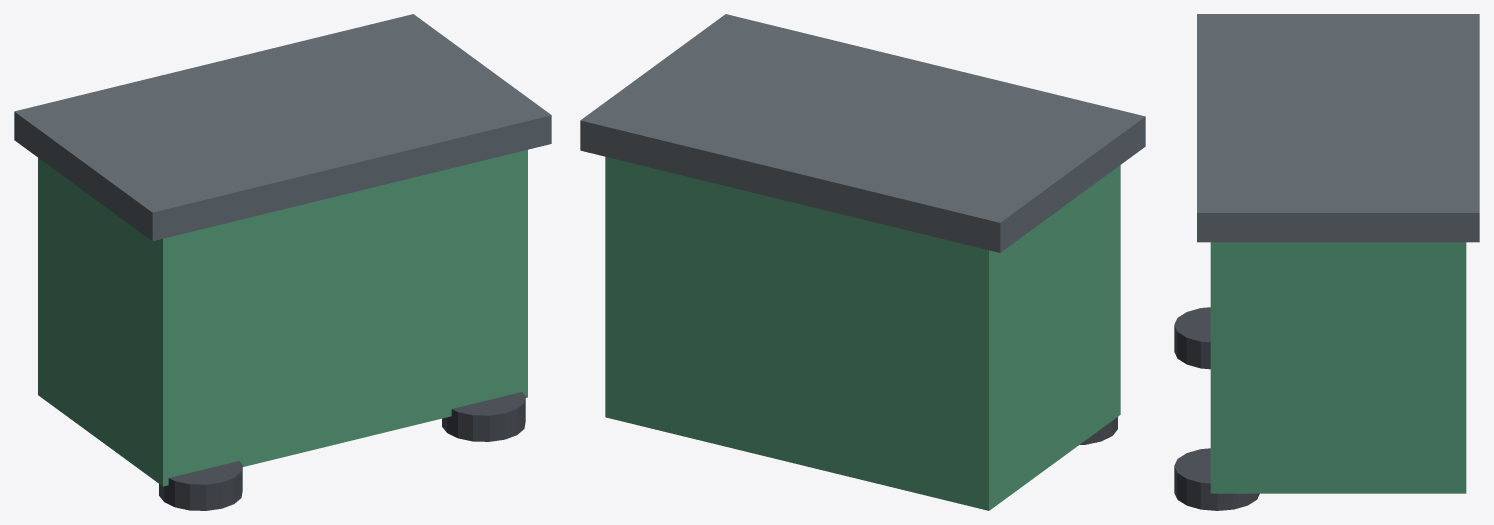
Rendered from township_dumpster.glb.
3 renders of one model, left to right at view 1: azimuth 30°, elevation 25°; view 2: azimuth 150°, elevation 25°; view 3: azimuth 270°, elevation 25°, orthographic. The views are drawn at different scales.
Parts seen in each view (by area): view 1: part_0, part_1, part_2, part_3; view 2: part_0, part_1; view 3: part_1, part_0, part_3, part_2.
Boxes of the visible parts, x1,y1,x2,y2 form: part_0: (38, 150, 527, 486); part_1: (14, 14, 551, 241); part_2: (159, 461, 242, 510); part_3: (442, 392, 525, 441); part_0: (605, 156, 1120, 510); part_1: (580, 14, 1145, 252); part_1: (1197, 14, 1479, 242); part_0: (1210, 242, 1466, 493); part_3: (1174, 448, 1259, 510); part_2: (1174, 307, 1210, 369).
Bounding box in the file's own units: 1.75 × 1.26 × 1.13.
